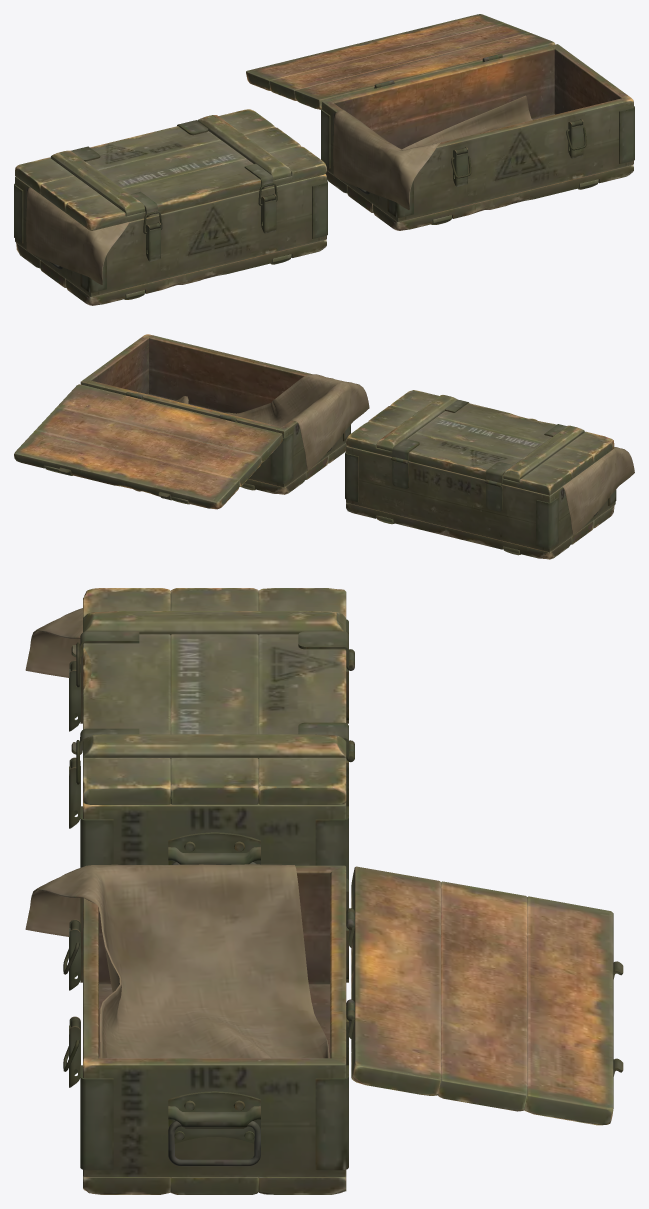
The model's file is old_military_crate.glb.
3 renders of one model, top to bottom at view 1: azimuth 30°, elevation 25°; view 2: azimuth 150°, elevation 25°; view 3: azimuth 270°, elevation 25°, orthographic. The views are drawn at different scales.
Visible parts, largest first — view 1: old_military_crate_lid_a; view 2: old_military_crate_lid_a; view 3: old_military_crate_lid_a.
Part boxes in pixels (x1,y1,x2,y2): old_military_crate_lid_a: (14, 14, 634, 305); old_military_crate_lid_a: (14, 334, 634, 559); old_military_crate_lid_a: (25, 588, 623, 1194).
Size of the model in its own units: 1.82 by 0.3009 by 0.9756.
Materials: 1 (1 with a texture image).
